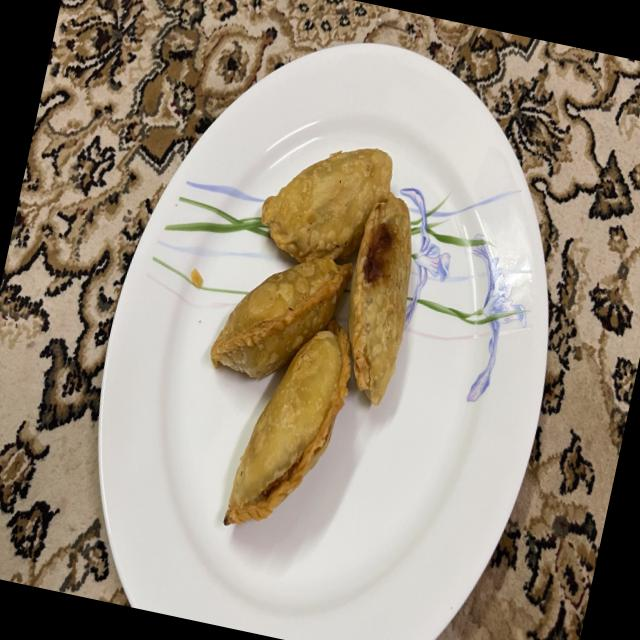karipap: (224, 328, 349, 525), (210, 257, 352, 378), (260, 148, 392, 264), (347, 192, 411, 405)
